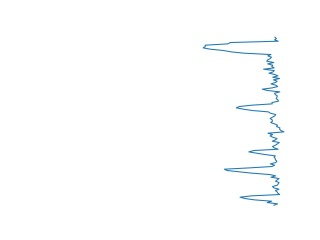distalBar: (199, 36, 282, 85)
interdistributaryEstuary: (233, 86, 288, 141)
underwaterNaturalLevee: (221, 142, 284, 209)
